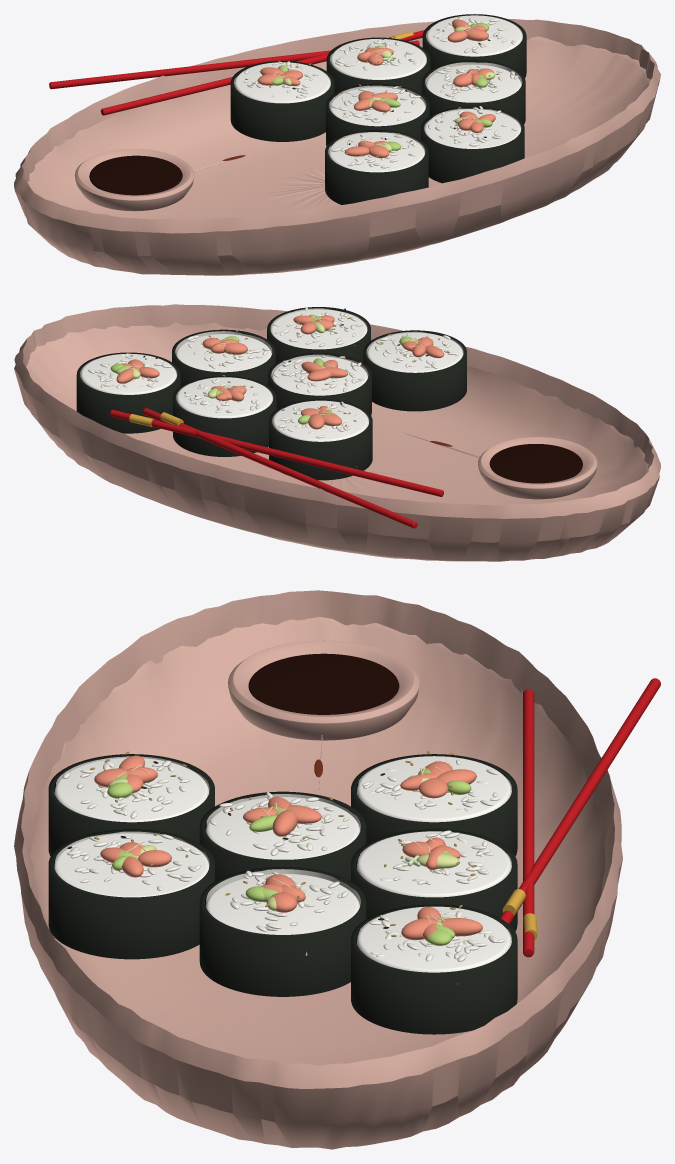
File: REALISTIC_SUSHI_AR4.glb
3 views of the same model, one above another, from view 1: azimuth 30°, elevation 25°; view 2: azimuth 150°, elevation 25°; view 3: azimuth 270°, elevation 25° (orthographic). The views are drawn at different scales.
Visible parts, largest first — view 1: MODERN OVAL CERAMIC PLATE, THIN TOASTED NORI SIDE BAND, THIN TOASTED NORI SIDE BAND.005, MODERN CERAMIC SOY BOWL, THIN TOASTED NORI SIDE BAND.006, DARK SOY SAUCE LIQUID, SOLID WHITE RICE BOTTOM.001, SOLID WHITE RICE BOTTOM.002, SOLID WHITE RICE BOTTOM, SOLID WHITE RICE BOTTOM.006, SOLID WHITE RICE BOTTOM.005, RED LACQUER CHOPSTICK.001 (+7 smaller); view 2: MODERN OVAL CERAMIC PLATE, THIN TOASTED NORI SIDE BAND.005, THIN TOASTED NORI SIDE BAND, THIN TOASTED NORI SIDE BAND.002, THIN TOASTED NORI SIDE BAND.001, MODERN CERAMIC SOY BOWL, DARK SOY SAUCE LIQUID, SOLID WHITE RICE BOTTOM.001, RED LACQUER CHOPSTICK, SOLID WHITE RICE BOTTOM, SOLID WHITE RICE BOTTOM.002, SOLID WHITE RICE BOTTOM.006 (+7 smaller); view 3: MODERN OVAL CERAMIC PLATE, THIN TOASTED NORI SIDE BAND.002, THIN TOASTED NORI SIDE BAND.006, THIN TOASTED NORI SIDE BAND.004, MODERN CERAMIC SOY BOWL, DARK SOY SAUCE LIQUID, SOLID WHITE RICE BOTTOM.001, SOLID WHITE RICE BOTTOM, SOLID WHITE RICE BOTTOM.006, SOLID WHITE RICE BOTTOM.002, SOLID WHITE RICE BOTTOM.005, SOLID WHITE RICE BOTTOM.004 (+8 smaller).
Part boxes in pixels (x1,y1,x2,y2): MODERN OVAL CERAMIC PLATE: (14,19,660,275); THIN TOASTED NORI SIDE BAND: (230,61,334,141); THIN TOASTED NORI SIDE BAND.005: (325,130,428,204); MODERN CERAMIC SOY BOWL: (74,147,271,211); THIN TOASTED NORI SIDE BAND.006: (421,106,524,183); DARK SOY SAUCE LIQUID: (89,155,182,195); SOLID WHITE RICE BOTTOM.001: (330,39,426,79); SOLID WHITE RICE BOTTOM.002: (426,15,522,56); SOLID WHITE RICE BOTTOM: (234,62,330,103); SOLID WHITE RICE BOTTOM.006: (424,109,520,148); SOLID WHITE RICE BOTTOM.005: (328,132,424,172); RED LACQUER CHOPSTICK.001: (49,40,419,89); MODERN OVAL CERAMIC PLATE: (14,304,660,561); THIN TOASTED NORI SIDE BAND.005: (363,330,466,411); THIN TOASTED NORI SIDE BAND: (269,399,372,480); THIN TOASTED NORI SIDE BAND.002: (76,352,180,433); THIN TOASTED NORI SIDE BAND.001: (173,376,276,456); MODERN CERAMIC SOY BOWL: (404,433,597,499); DARK SOY SAUCE LIQUID: (489,444,582,483); SOLID WHITE RICE BOTTOM.001: (176,377,272,418); RED LACQUER CHOPSTICK: (110,409,443,496); SOLID WHITE RICE BOTTOM: (272,400,368,441); SOLID WHITE RICE BOTTOM.002: (80,353,176,394); SOLID WHITE RICE BOTTOM.006: (271,309,367,349); MODERN OVAL CERAMIC PLATE: (14,590,622,1149); THIN TOASTED NORI SIDE BAND.002: (351,904,517,1034); THIN TOASTED NORI SIDE BAND.006: (48,829,214,959); THIN TOASTED NORI SIDE BAND.004: (199,867,366,996); MODERN CERAMIC SOY BOWL: (228,640,419,790); DARK SOY SAUCE LIQUID: (248,653,399,714); SOLID WHITE RICE BOTTOM.001: (357,831,511,897); SOLID WHITE RICE BOTTOM: (357,756,511,822); SOLID WHITE RICE BOTTOM.006: (54,833,208,897); SOLID WHITE RICE BOTTOM.002: (357,906,511,972); SOLID WHITE RICE BOTTOM.005: (54,758,208,822); SOLID WHITE RICE BOTTOM.004: (206,873,359,934).
Size of the model in its own units: 6.45 by 1.15 by 3.64.
